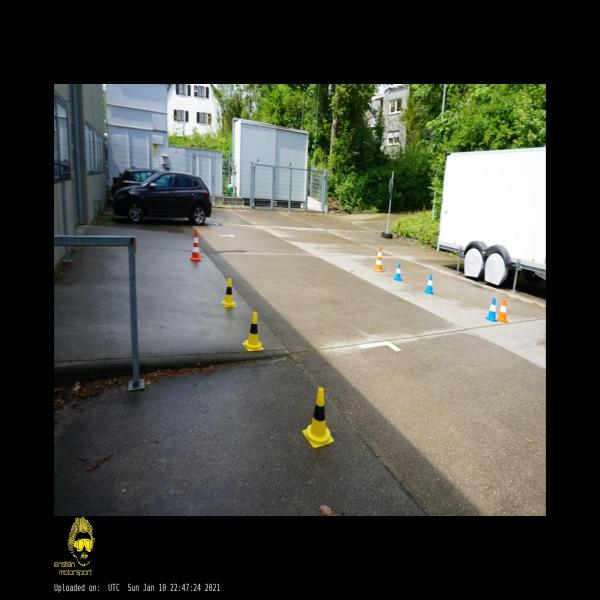blue_cone: (486, 298, 498, 322), (424, 274, 434, 294), (394, 263, 402, 281)
large_orange_cone: (190, 230, 201, 262), (373, 245, 384, 272)
orange_cone: (498, 299, 508, 322)
yellow_cone: (302, 388, 334, 448), (242, 312, 264, 351), (221, 278, 236, 306)
